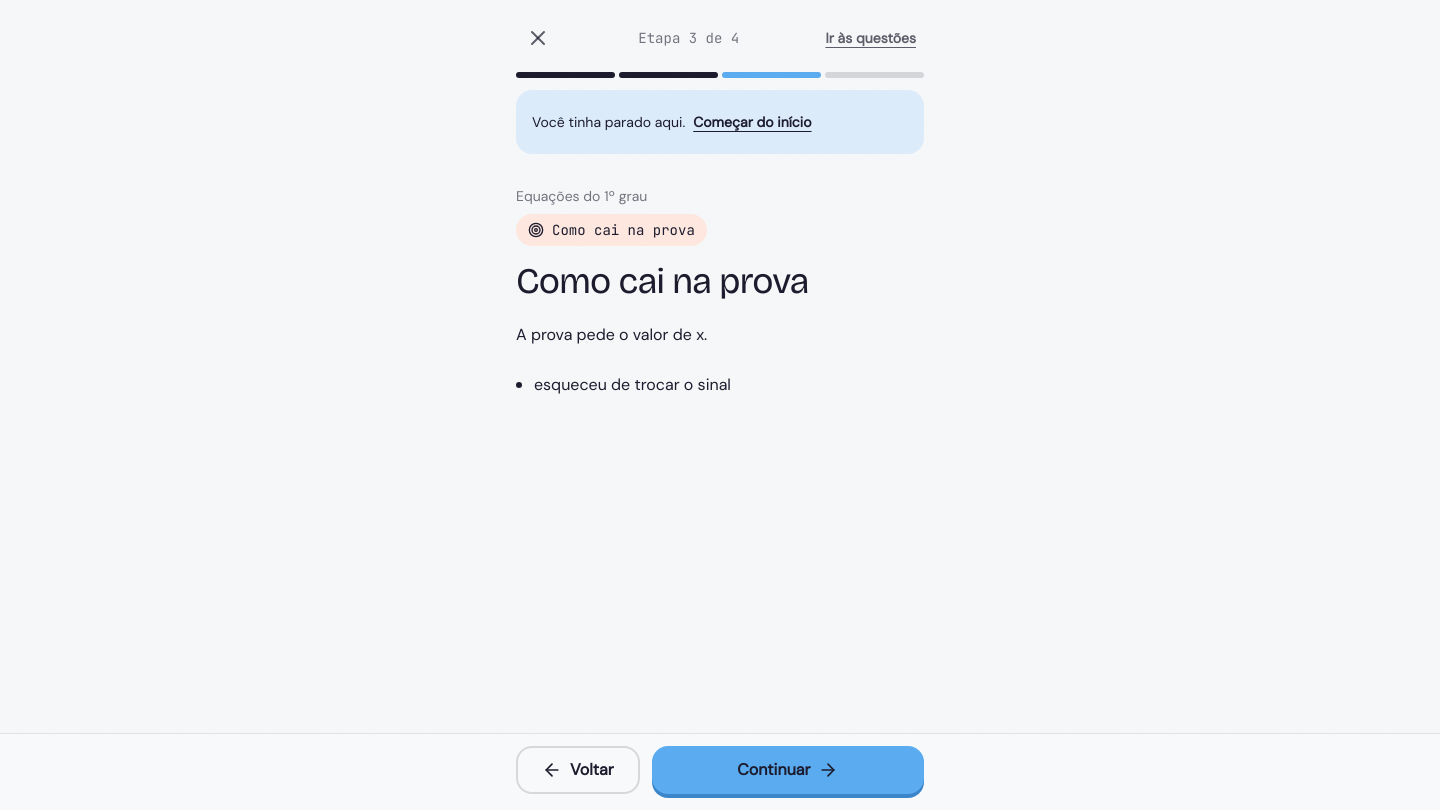
Test: LessonStepper › retomar de onde parou › esquece a marca quando a pessoa chega ao fim da lição
Click the button "Continuar": x=788, y=770 [652,746,924,794]
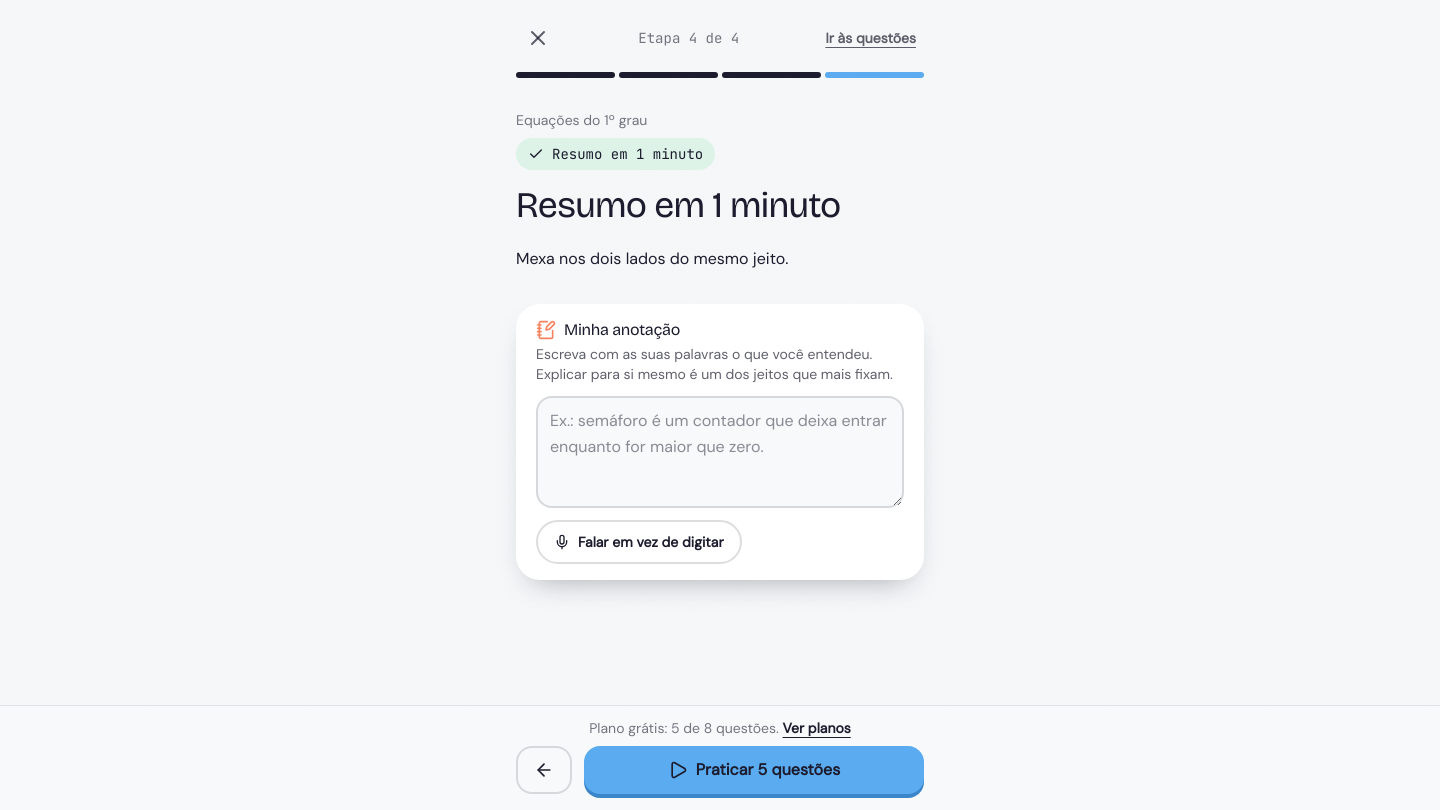
Expected: the text "Etapa 4 de 4" is shown, [638,28,739,48]
